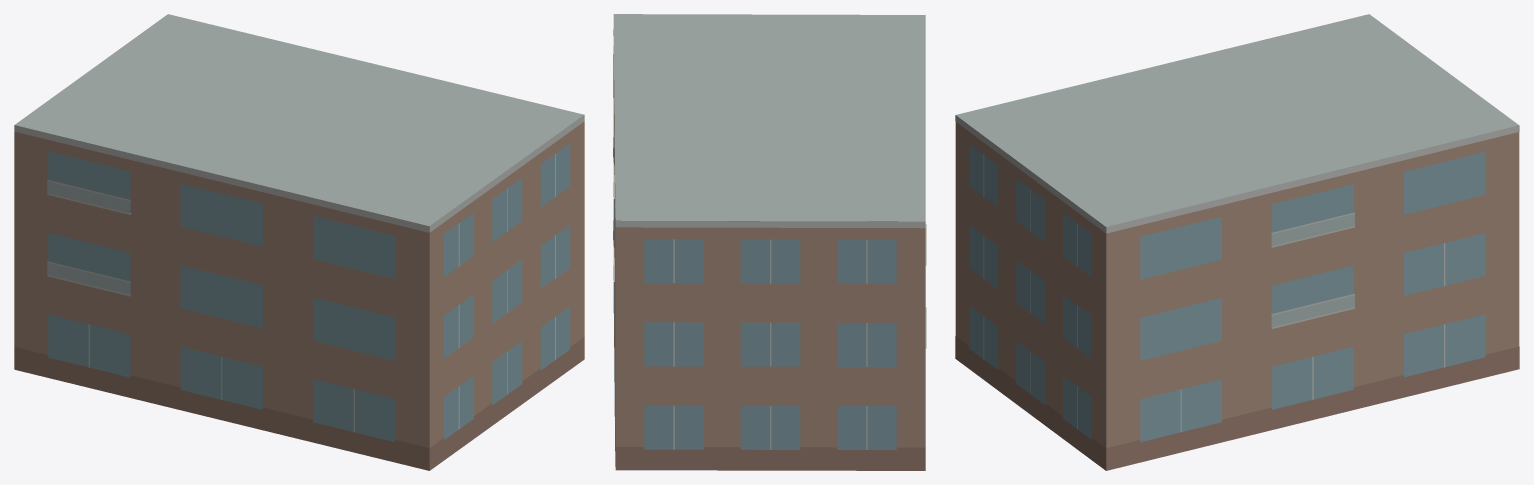
The model's file is survey-upis-32913337.glb.
3 renders of one model, left to right at view 1: azimuth 30°, elevation 25°; view 2: azimuth 150°, elevation 25°; view 3: azimuth 270°, elevation 25°, orthographic. The views are drawn at different scales.
Visible parts, largest first — view 1: survey-upis-32913337.tmp; view 2: survey-upis-32913337.tmp; view 3: survey-upis-32913337.tmp.
Part boxes in pixels (x1,y1,x2,y2): survey-upis-32913337.tmp: (14,14,584,470); survey-upis-32913337.tmp: (613,14,926,470); survey-upis-32913337.tmp: (955,14,1519,470).
Size of the model in its own units: 17.16 by 9.15 by 19.19.
